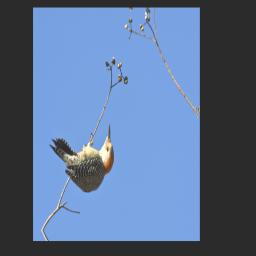Woodpecker: (46, 116, 120, 197)
